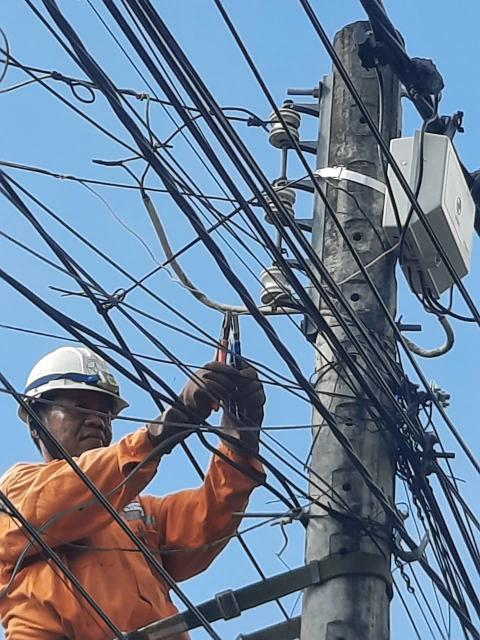gloves: (138, 357, 233, 451), (206, 350, 290, 452)
harness: (103, 599, 349, 640)
helmet: (10, 337, 147, 428)
